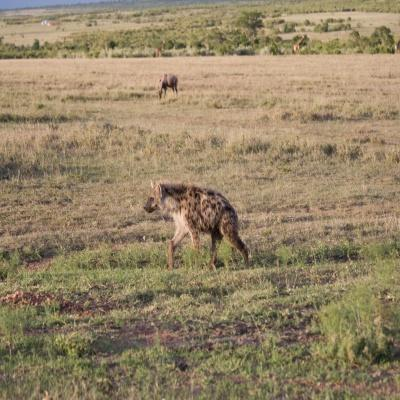hyenas: (135, 160, 263, 277)
